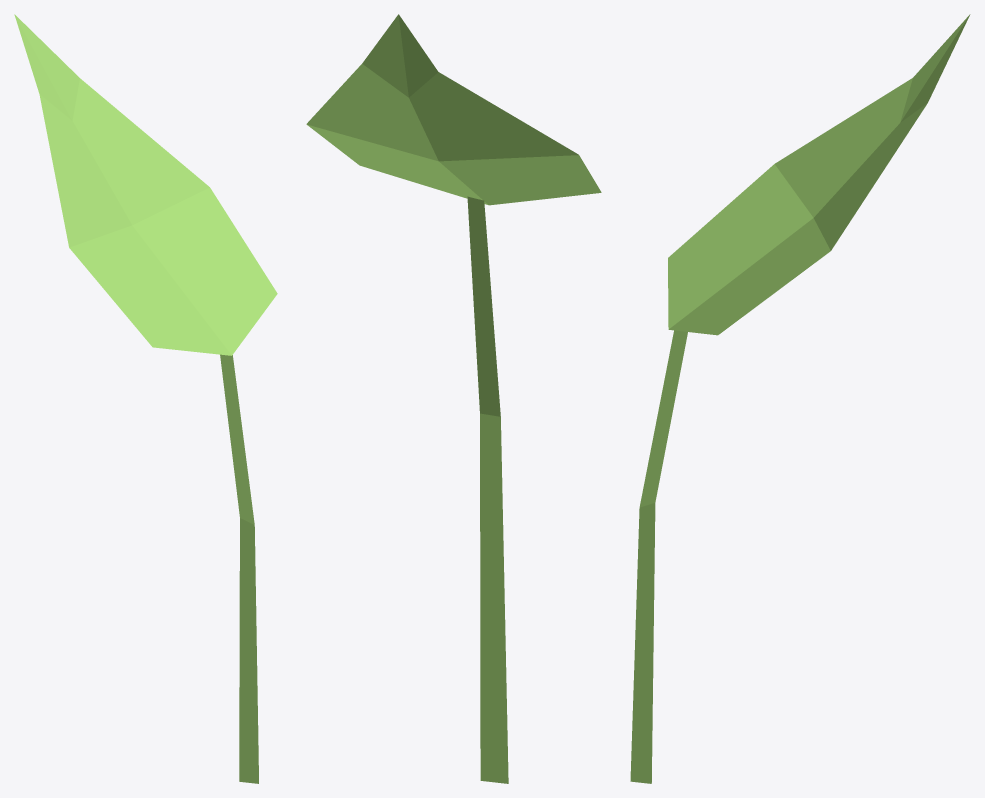
The model's file is Plant_f_TwoS_01.fbx.
3 renders of one model, left to right at view 1: azimuth 30°, elevation 25°; view 2: azimuth 150°, elevation 25°; view 3: azimuth 270°, elevation 25°, orthographic. The views are drawn at different scales.
Visible parts, largest first — view 1: Plant_f_TwoS_01; view 2: Plant_f_TwoS_01; view 3: Plant_f_TwoS_01.
Part boxes in pixels (bbox=[...]): Plant_f_TwoS_01: bbox=[14, 14, 277, 783]; Plant_f_TwoS_01: bbox=[306, 14, 601, 783]; Plant_f_TwoS_01: bbox=[630, 14, 970, 783].
Bounding box in the file's own units: 0.1389 × 0.492 × 0.2098.
